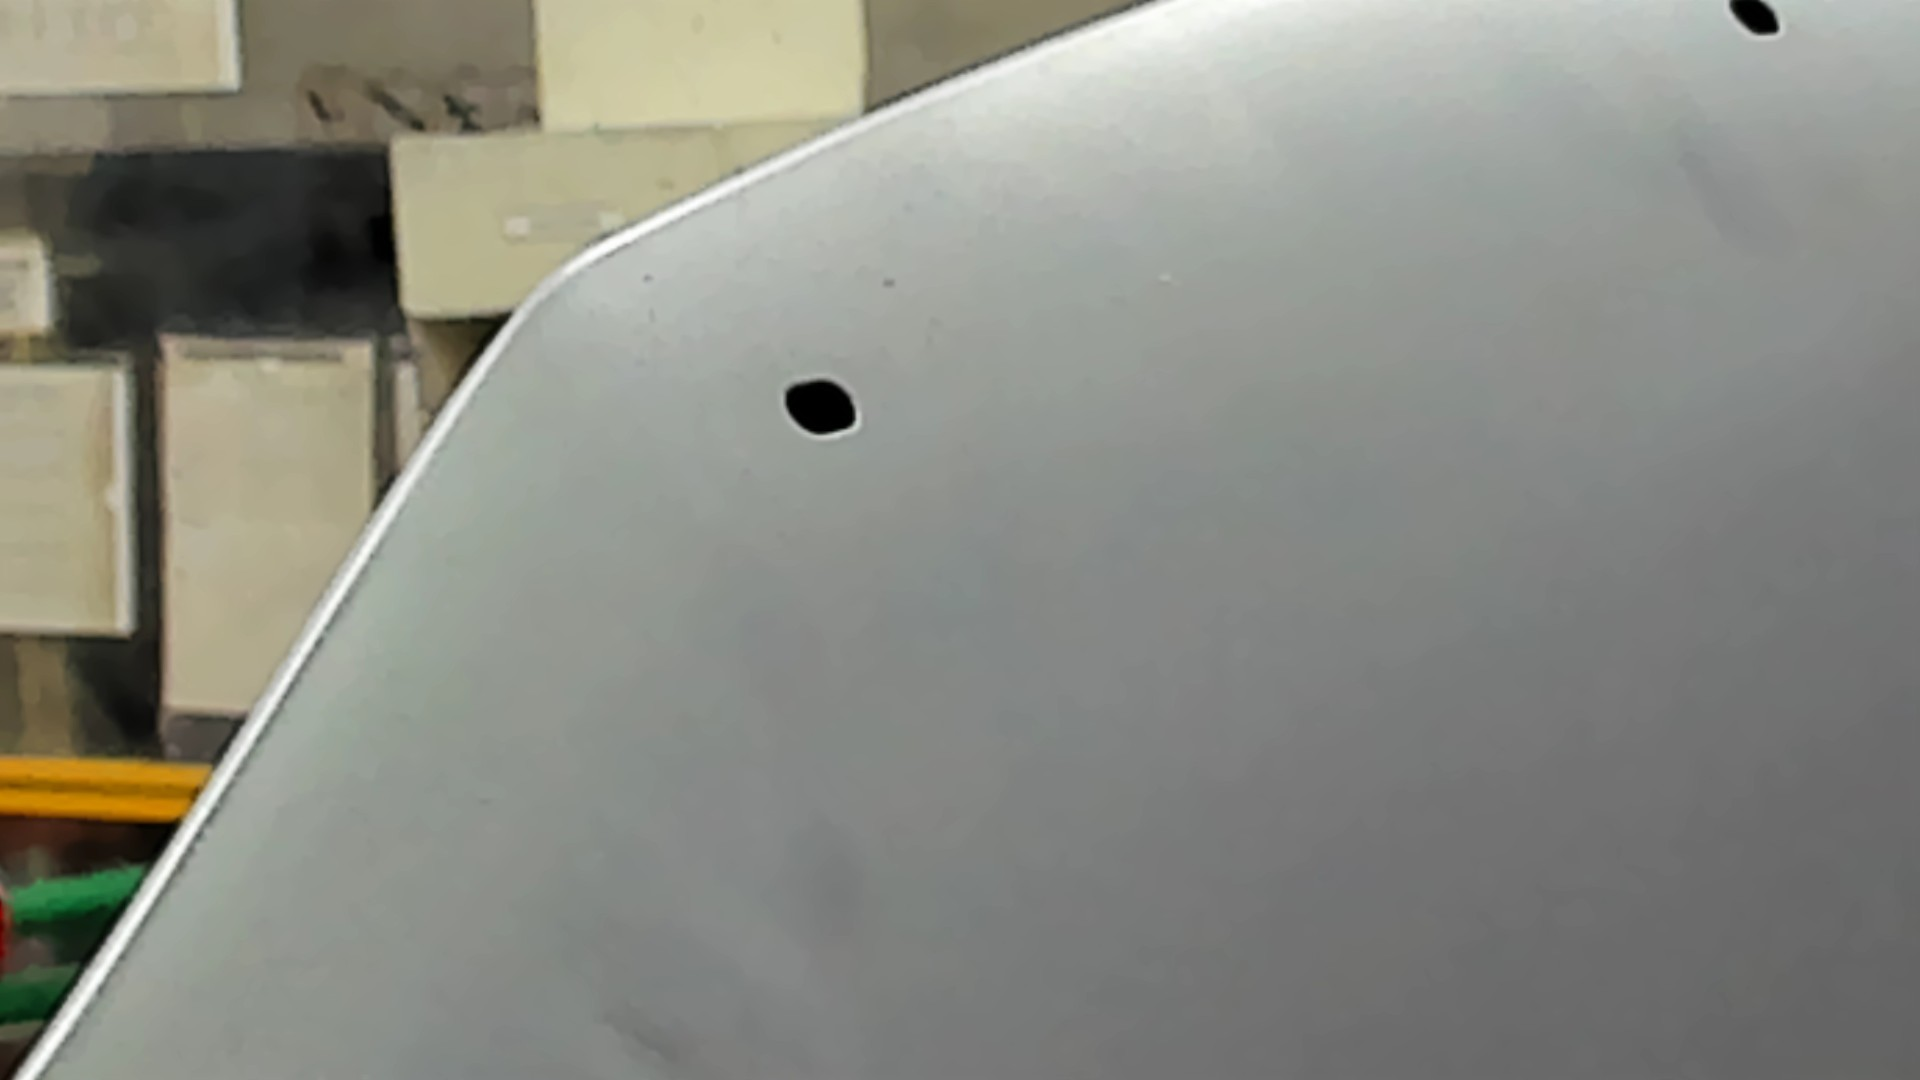amorfo: (778, 376, 872, 438), (1724, 1, 1791, 42)
capo: (978, 105, 1920, 1080)
